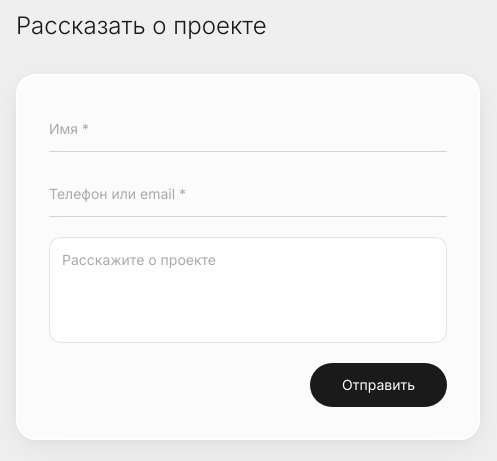
BriefPage › shows confirmation after valid submit
Type "Анна" into the field labelled "Имя" at (248, 130), box left=49, top=107, right=447, bottom=152
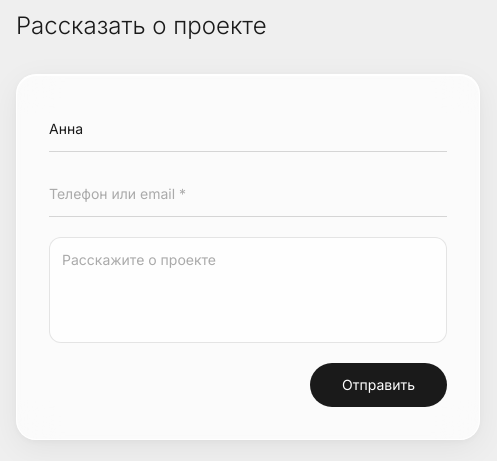
Type "+7 999 123 45 67" into the field labelled "Телефон или email" at (248, 194), box left=49, top=172, right=447, bottom=217
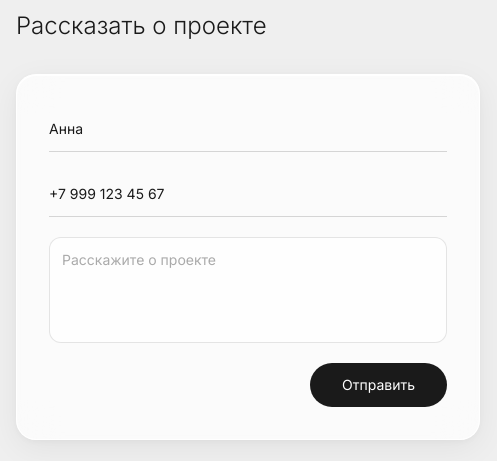
Click the button "Отправить" at (378, 385), box left=310, top=363, right=447, bottom=407
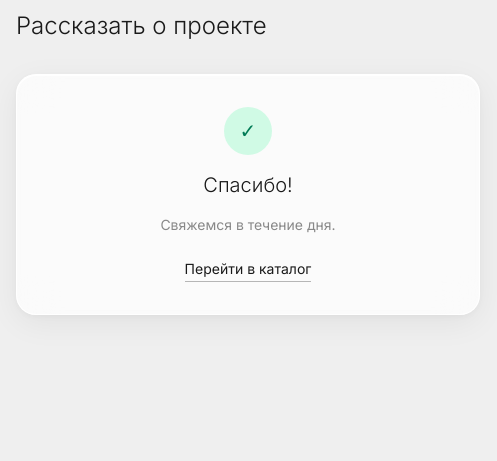
expect the heading "Спасибо!" is shown: met, box left=203, top=173, right=293, bottom=197
